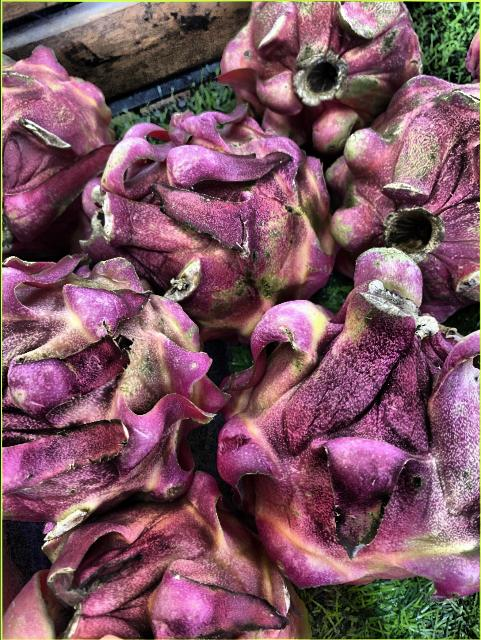buah-naga-belum-matang: (215, 246, 481, 588), (0, 255, 216, 502), (82, 126, 340, 314), (7, 508, 309, 640), (348, 78, 481, 300), (231, 0, 421, 134), (0, 52, 112, 248)
